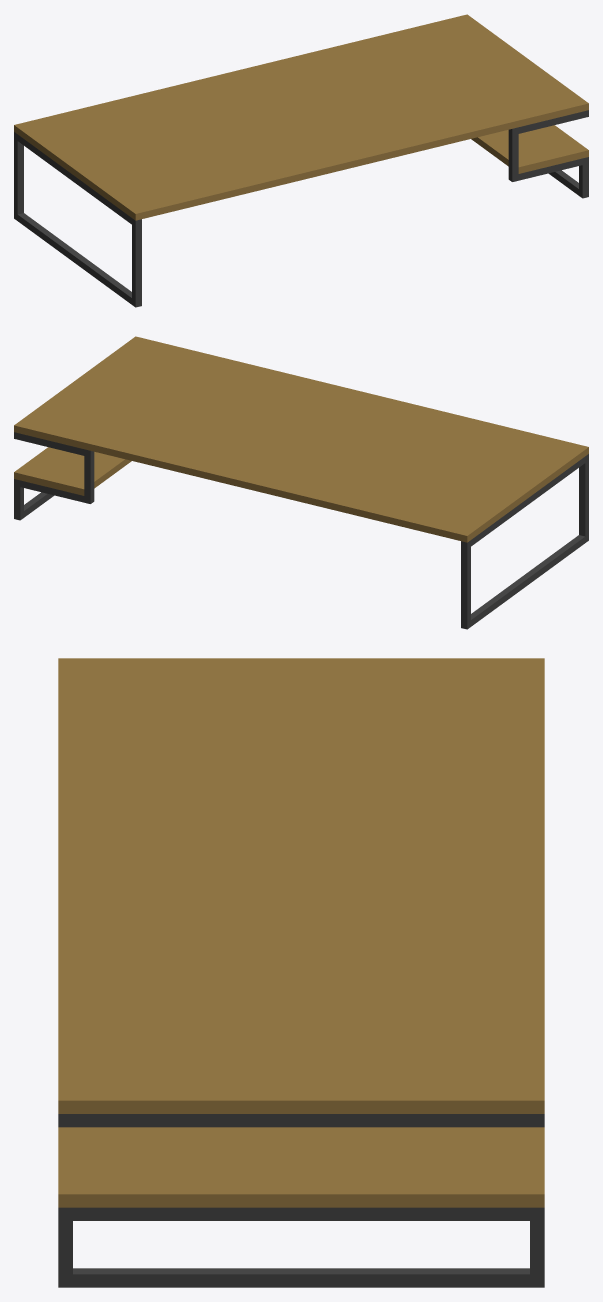
File: teatable_0_lev1_lev3.glb
3 views of the same model, one above another, from view 1: azimuth 30°, elevation 25°; view 2: azimuth 150°, elevation 25°; view 3: azimuth 270°, elevation 25° (orthographic). The views are drawn at different scales.
Parts seen in each view (by area): view 1: teatable_0_lev1_lev3; view 2: teatable_0_lev1_lev3; view 3: teatable_0_lev1_lev3.
Part boxes in pixels (x1,y1,x2,y2): teatable_0_lev1_lev3: [14, 14, 588, 307]; teatable_0_lev1_lev3: [14, 336, 588, 629]; teatable_0_lev1_lev3: [58, 658, 544, 1287].
Bounding box in the file's own units: 5.31 × 1.05 × 2.47.
1 material, 1 textured.
